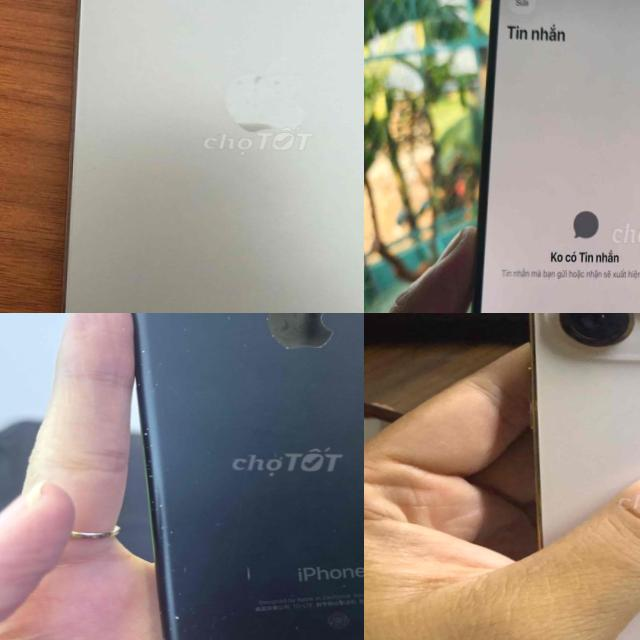scratch: (128, 337, 170, 484), (152, 590, 264, 640), (144, 492, 189, 588), (252, 313, 333, 351), (214, 313, 246, 345), (243, 562, 253, 581)
